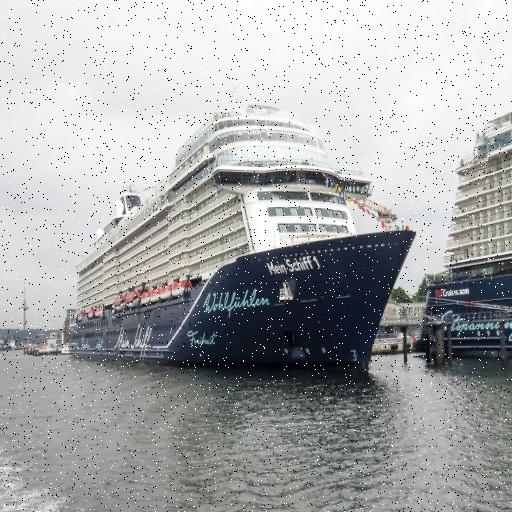cruises: (62, 95, 421, 400)
